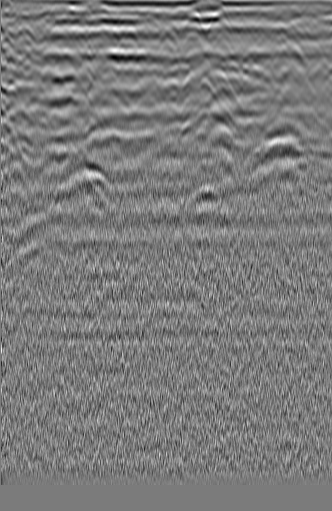상수: (274, 43, 306, 71)
오수: (10, 23, 42, 54)
우수: (152, 24, 183, 59)
